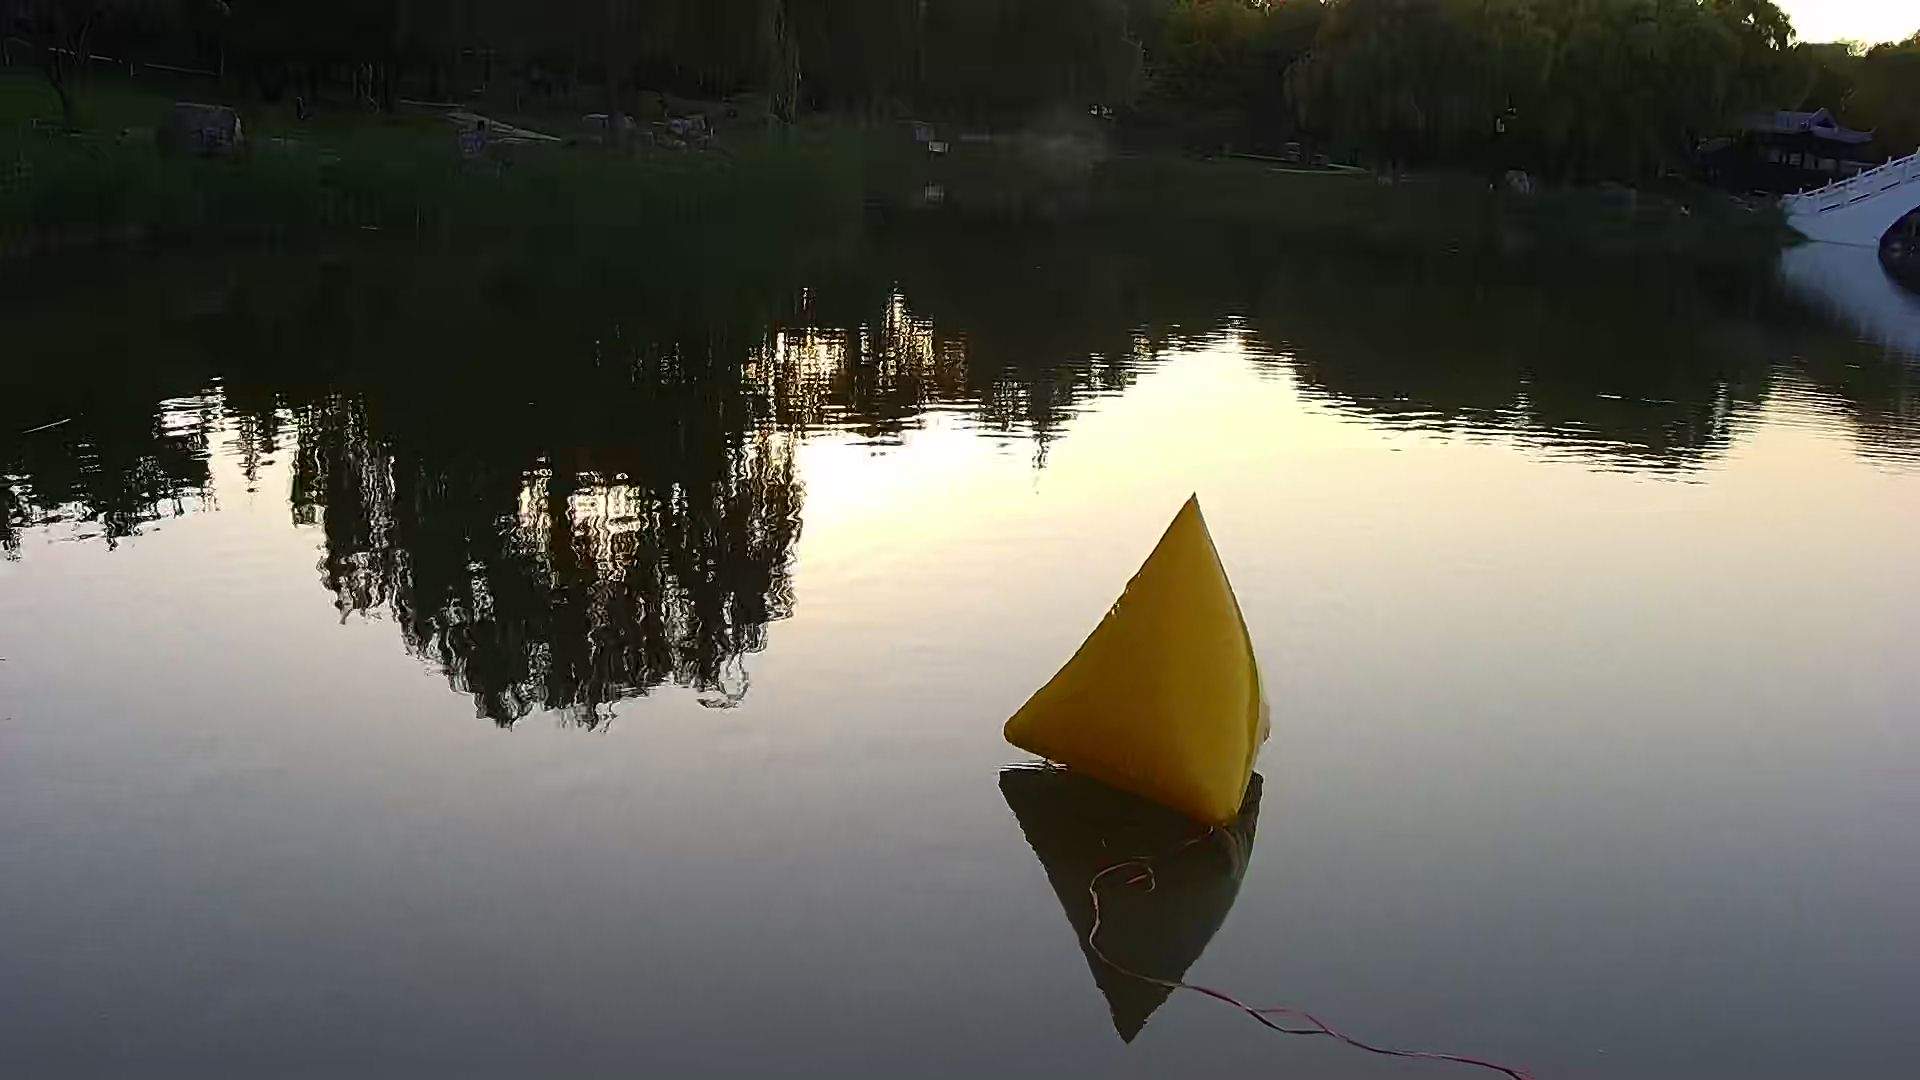bridge: (1792, 127, 1916, 251)
rubbish: (993, 493, 1274, 831)
